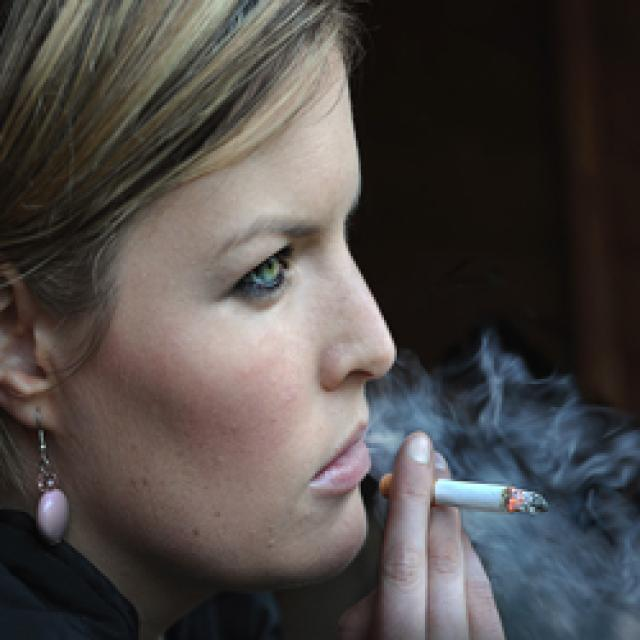Smooking: (437, 468, 552, 523)
